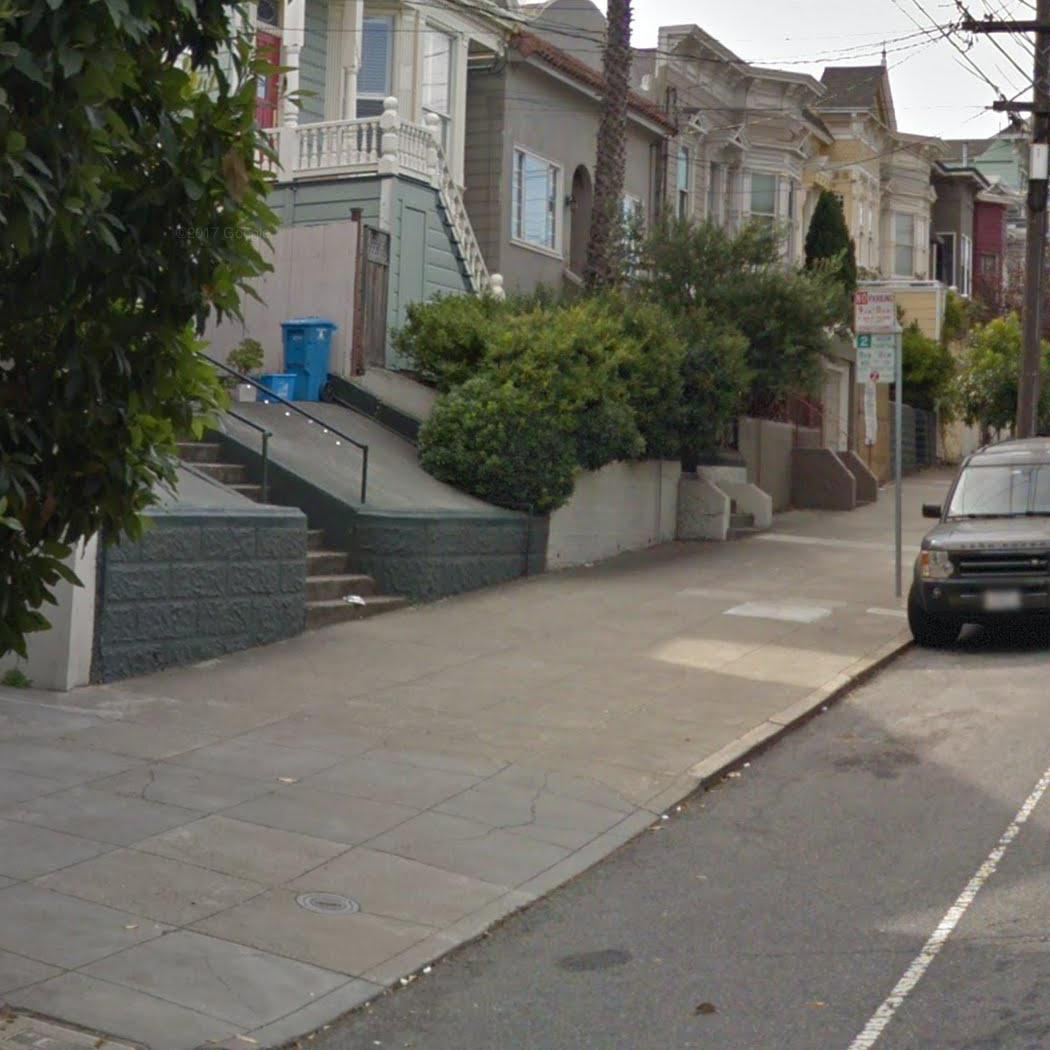2 Hour Parking: (853, 333, 899, 386)
No Parking: (852, 286, 899, 335)
